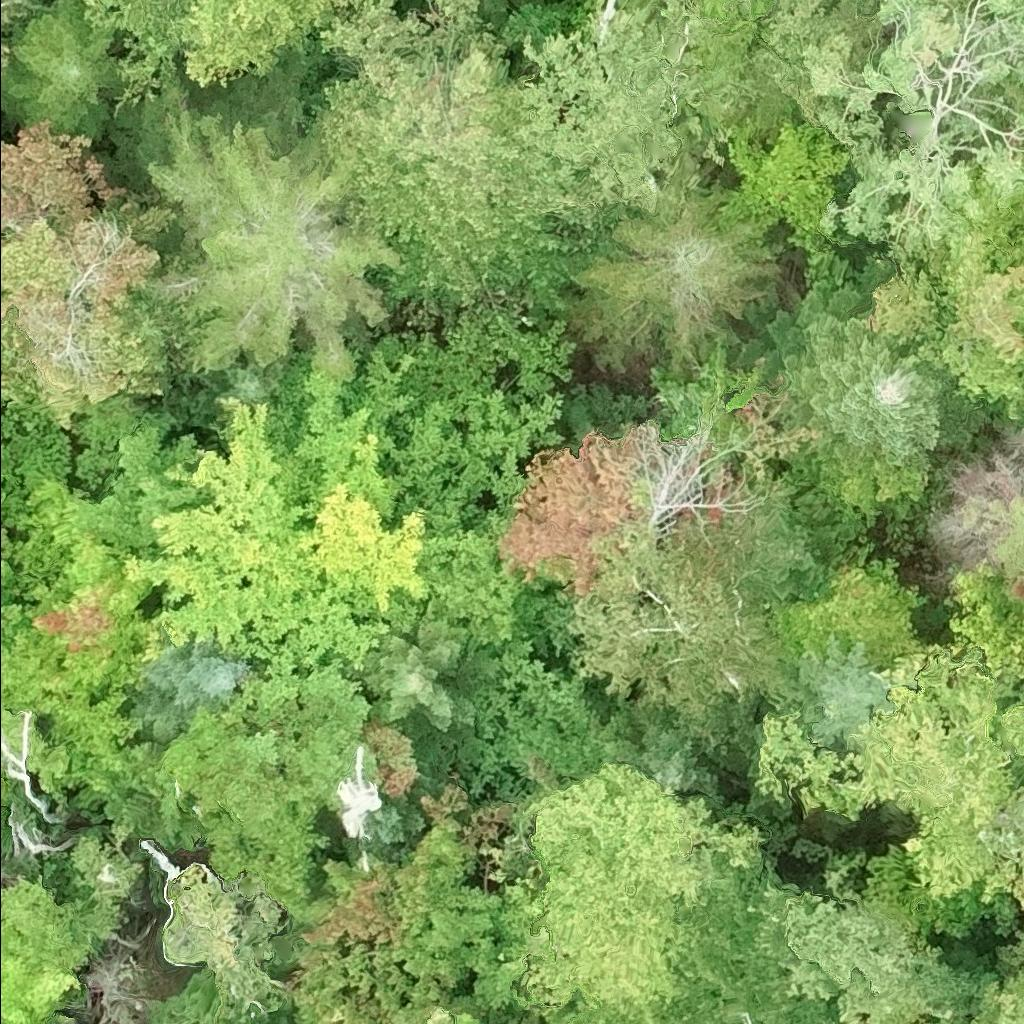crown: (121, 341, 430, 674), (98, 49, 404, 382), (307, 0, 565, 303), (751, 620, 1023, 896), (495, 760, 771, 1023), (159, 657, 417, 920), (750, 0, 1023, 246), (287, 771, 525, 1023), (0, 116, 184, 428), (514, 0, 757, 233), (732, 272, 992, 468), (565, 524, 784, 735), (573, 163, 784, 370), (780, 866, 991, 1023), (867, 221, 1023, 417), (494, 421, 653, 593), (770, 542, 929, 688), (0, 874, 121, 1023), (0, 0, 122, 145), (726, 114, 854, 249), (349, 615, 474, 751), (724, 486, 858, 609), (176, 0, 351, 89), (422, 507, 525, 648), (126, 630, 249, 743), (781, 630, 890, 753), (785, 445, 932, 526), (344, 754, 445, 865), (161, 351, 290, 429), (625, 721, 728, 818), (947, 554, 1023, 677), (149, 967, 292, 1023), (81, 0, 185, 44), (965, 965, 1023, 1023), (994, 489, 1023, 580), (0, 556, 22, 603), (0, 481, 10, 517), (0, 879, 2, 885), (783, 695, 785, 699), (783, 699, 783, 699)
